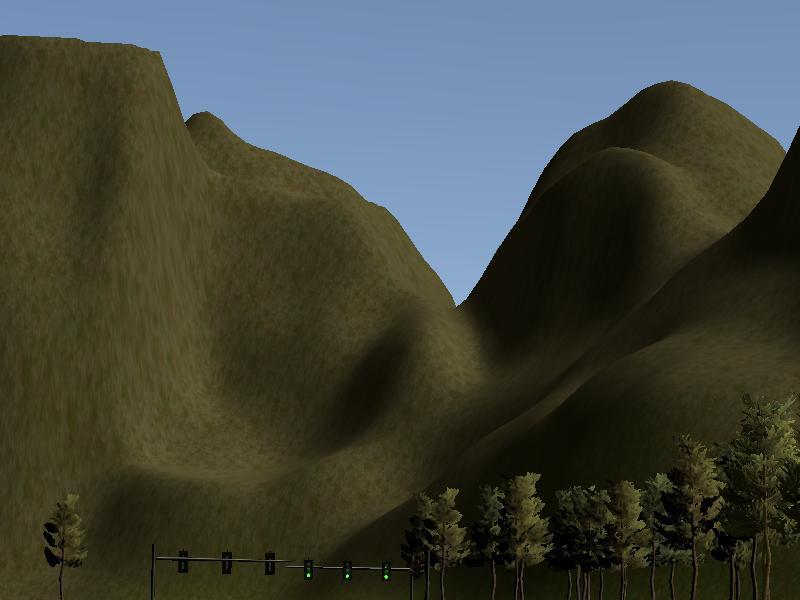Green: (303, 556, 314, 583), (341, 557, 351, 581), (381, 558, 390, 584)
